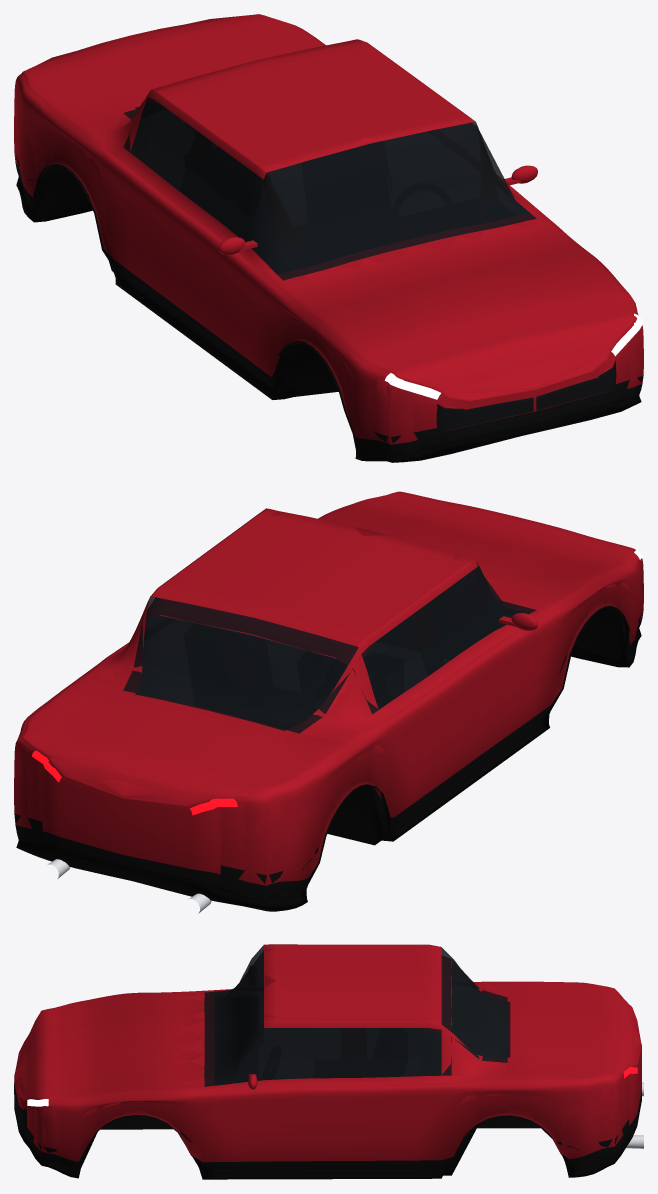
File: sa_sedan.glb
The picture shows the model from 3 angles, top to bottom: view 1: azimuth 30°, elevation 25°; view 2: azimuth 150°, elevation 25°; view 3: azimuth 270°, elevation 25°; orthographic projection. The views are drawn at different scales.
Visible parts, largest first — view 1: body (×2), grille, mirrors; view 2: body (×2); view 3: body (×2).
Part boxes in pixels (box(x1,y1,x2,y2)): body (×2): box(14, 14, 643, 462); grille: box(436, 360, 616, 433); mirrors: box(218, 165, 537, 254); body (×2): box(14, 491, 643, 911); body (×2): box(14, 944, 641, 1179).
Size of the model in its own units: 2.04 by 1.2 by 4.57.
